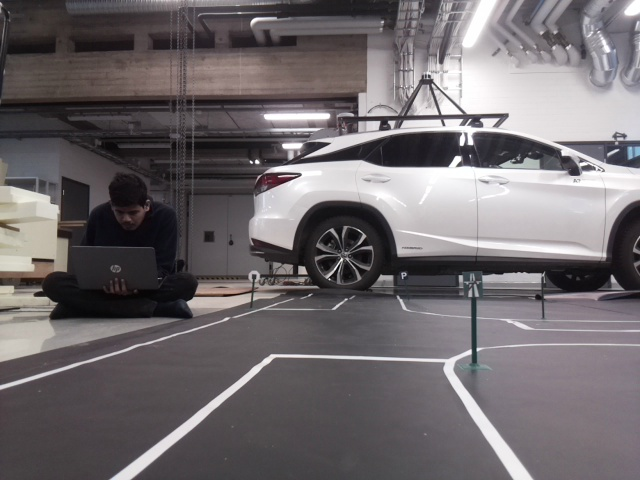HighwayExit: (463, 271, 482, 295)
Parking: (399, 272, 406, 279)
